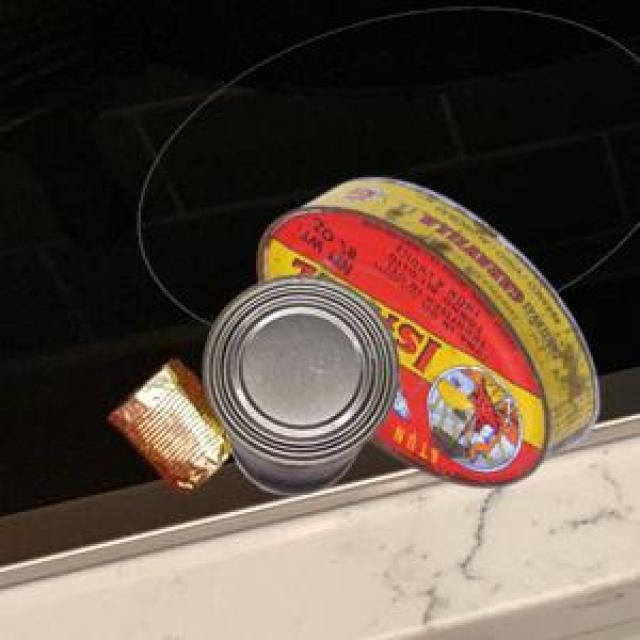logam: (255, 176, 596, 483), (199, 272, 396, 492), (106, 357, 229, 492)
